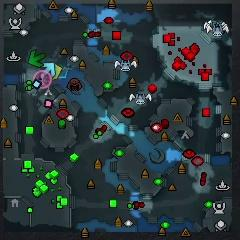Other: (33, 70, 52, 90)
x2: (54, 64, 63, 78)
x3: (41, 62, 55, 78)
x4: (28, 49, 47, 68)
